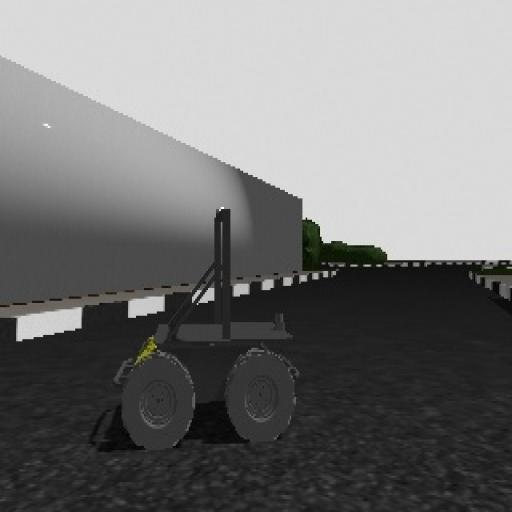huskya200: (110, 198, 314, 472)
